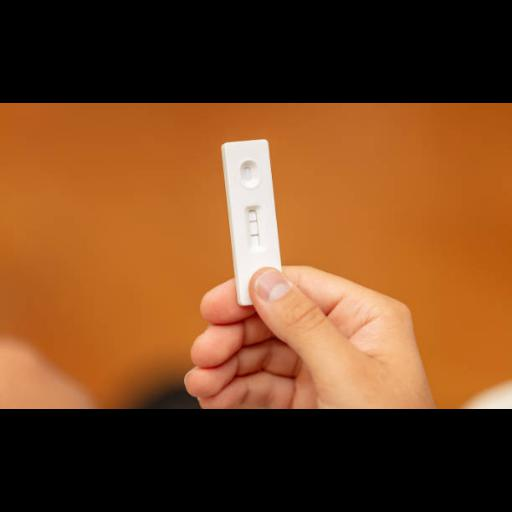Pos: (224, 139, 286, 304)
